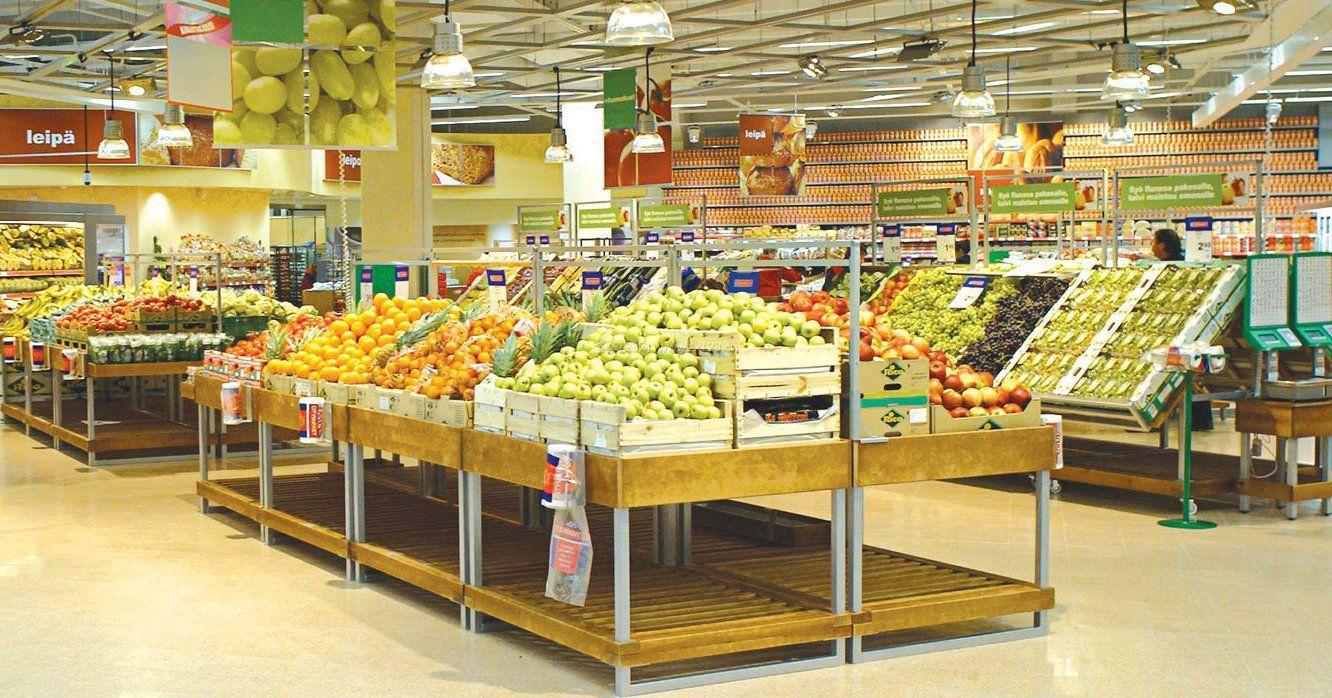apple: (780, 288, 848, 323)
